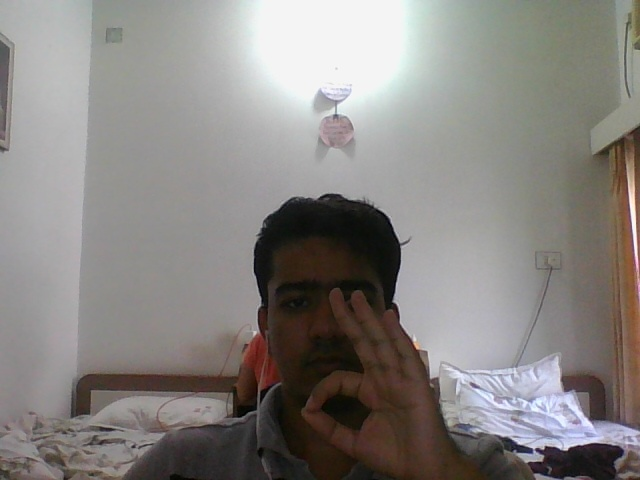ok: (300, 285, 443, 469)
